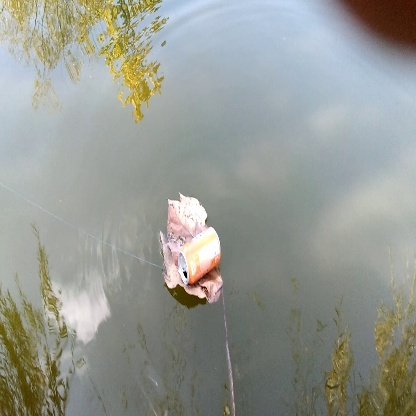bottle: (172, 226, 228, 283)
